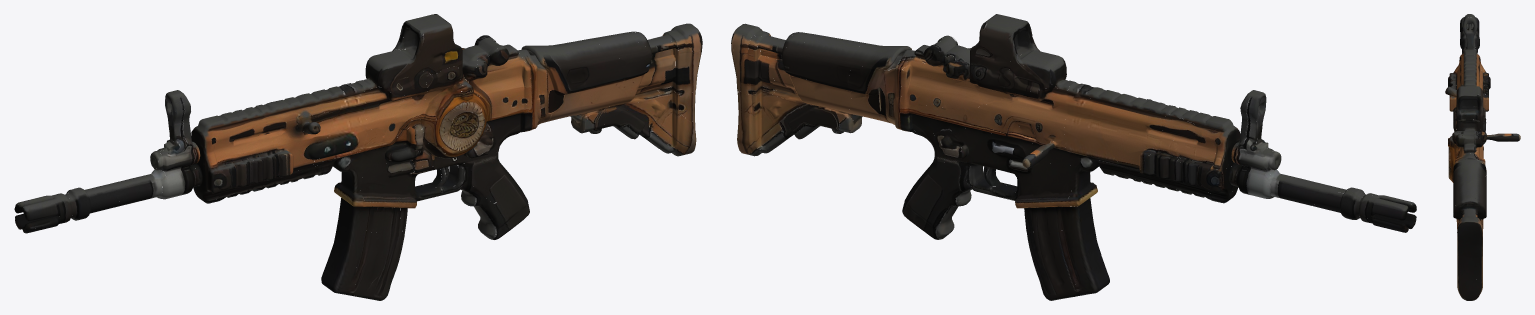
File: fusil.glb
3 renders of one model, left to right at view 1: azimuth 30°, elevation 25°; view 2: azimuth 150°, elevation 25°; view 3: azimuth 270°, elevation 25°, orthographic. The views are drawn at different scales.
Visible parts, largest first — view 1: tripo_node_7d4df93b-67b7-4176-a54e-9158e1d9074a; view 2: tripo_node_7d4df93b-67b7-4176-a54e-9158e1d9074a; view 3: tripo_node_7d4df93b-67b7-4176-a54e-9158e1d9074a.
Part boxes in pixels (x1,y1,x2,y2): tripo_node_7d4df93b-67b7-4176-a54e-9158e1d9074a: (14,14,702,300); tripo_node_7d4df93b-67b7-4176-a54e-9158e1d9074a: (731,14,1416,300); tripo_node_7d4df93b-67b7-4176-a54e-9158e1d9074a: (1445,14,1520,300).
Bounding box in the file's own units: 1 × 0.3722 × 0.1471.
Materials: 1 (1 with a texture image).
